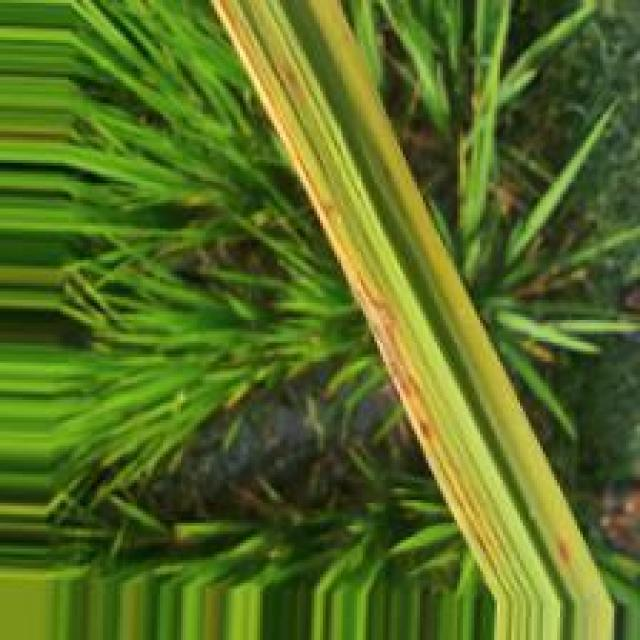Leaf_Blast: (353, 266, 426, 401)
